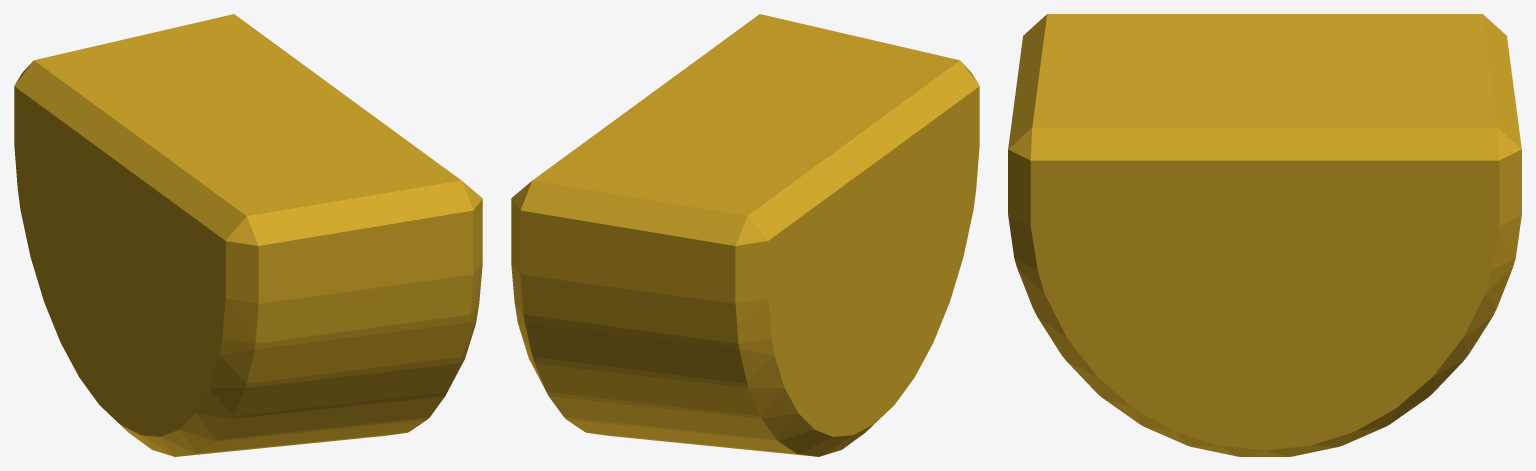
The model's file is VIS_HandInterfaceRing.dae.
3 renders of one model, left to right at view 1: azimuth 30°, elevation 25°; view 2: azimuth 150°, elevation 25°; view 3: azimuth 270°, elevation 25°, orthographic. The views are drawn at different scales.
Visible parts, largest first — view 1: VIS_HandInterfaceRing; view 2: VIS_HandInterfaceRing; view 3: VIS_HandInterfaceRing.
Boxes of the visible parts, left/top/right/bottom form: VIS_HandInterfaceRing: left=14, top=14, right=482, bottom=456; VIS_HandInterfaceRing: left=511, top=14, right=979, bottom=456; VIS_HandInterfaceRing: left=1008, top=14, right=1521, bottom=456.
Size of the model in its own units: 0.0144 by 0.0251 by 0.0183.
